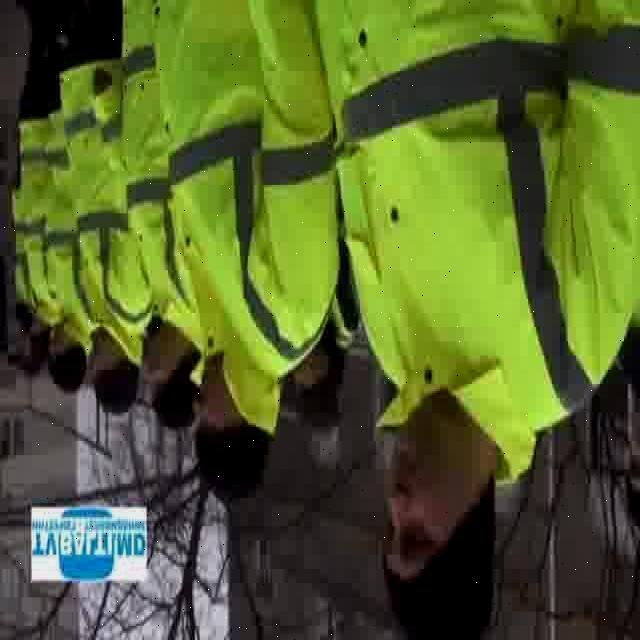Vest: (315, 0, 640, 489), (148, 0, 342, 439), (90, 0, 207, 368), (56, 56, 156, 371), (37, 115, 90, 358), (13, 114, 65, 328)
